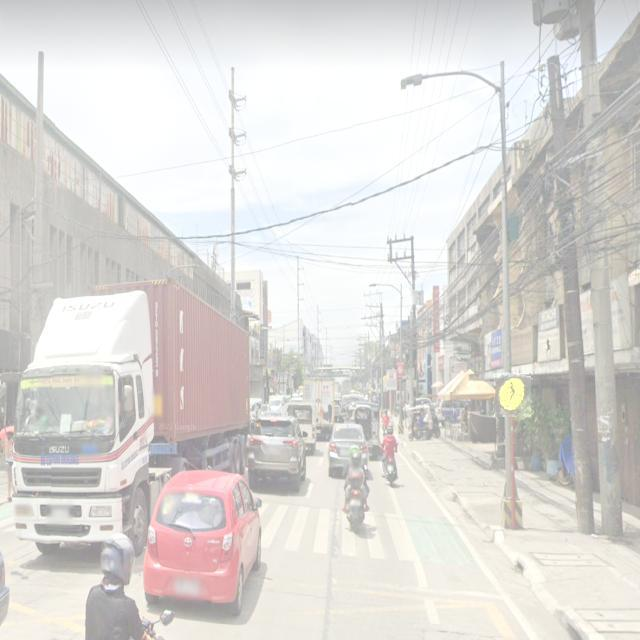bike lane: (494, 373, 531, 417)
